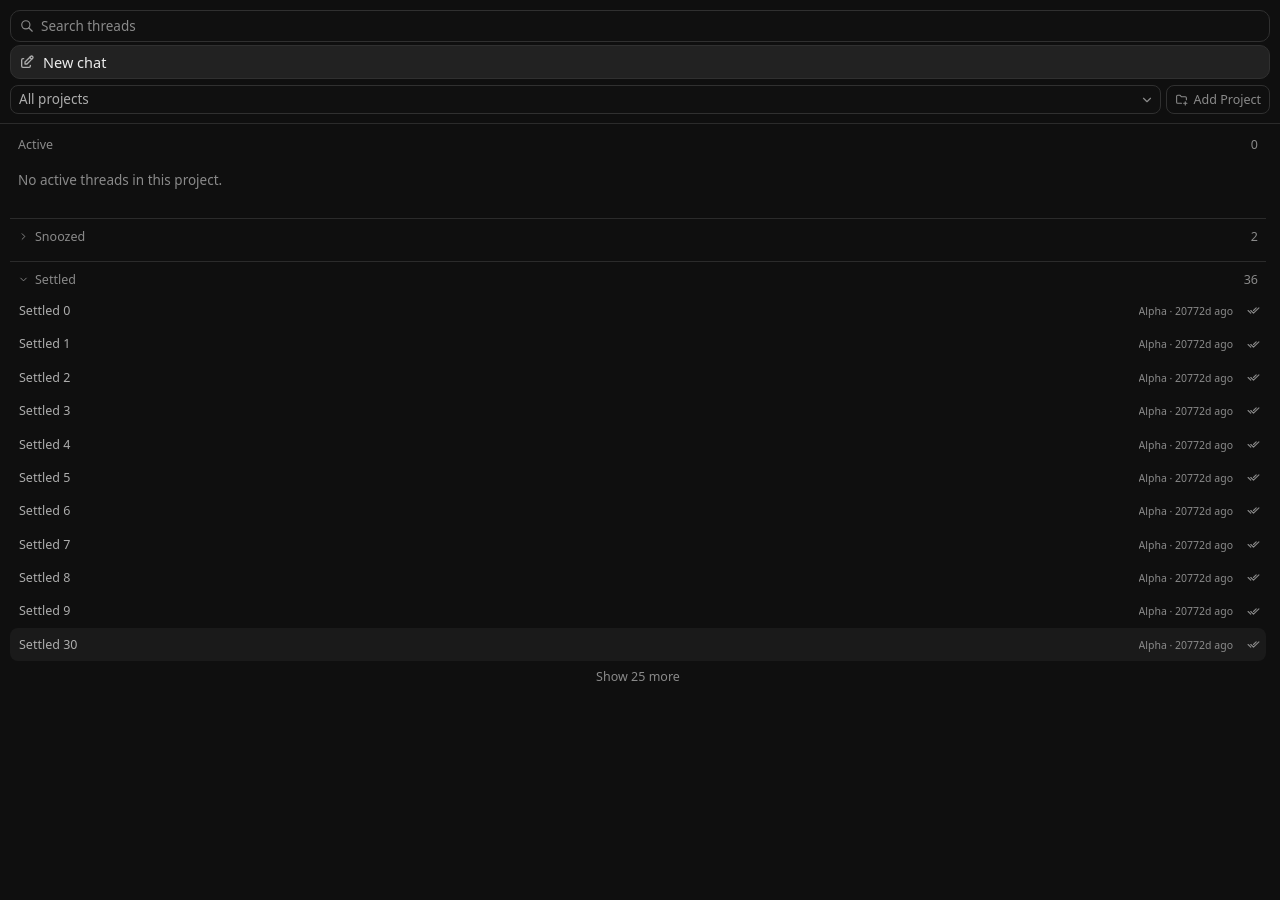
InboxSidebar › orders snoozes, pages settled work, and keeps a deep selected row visible
Later steps or results of the test are not shown.
Click the button "Snoozed 2" at (60, 237), box [10,222,1266,252]
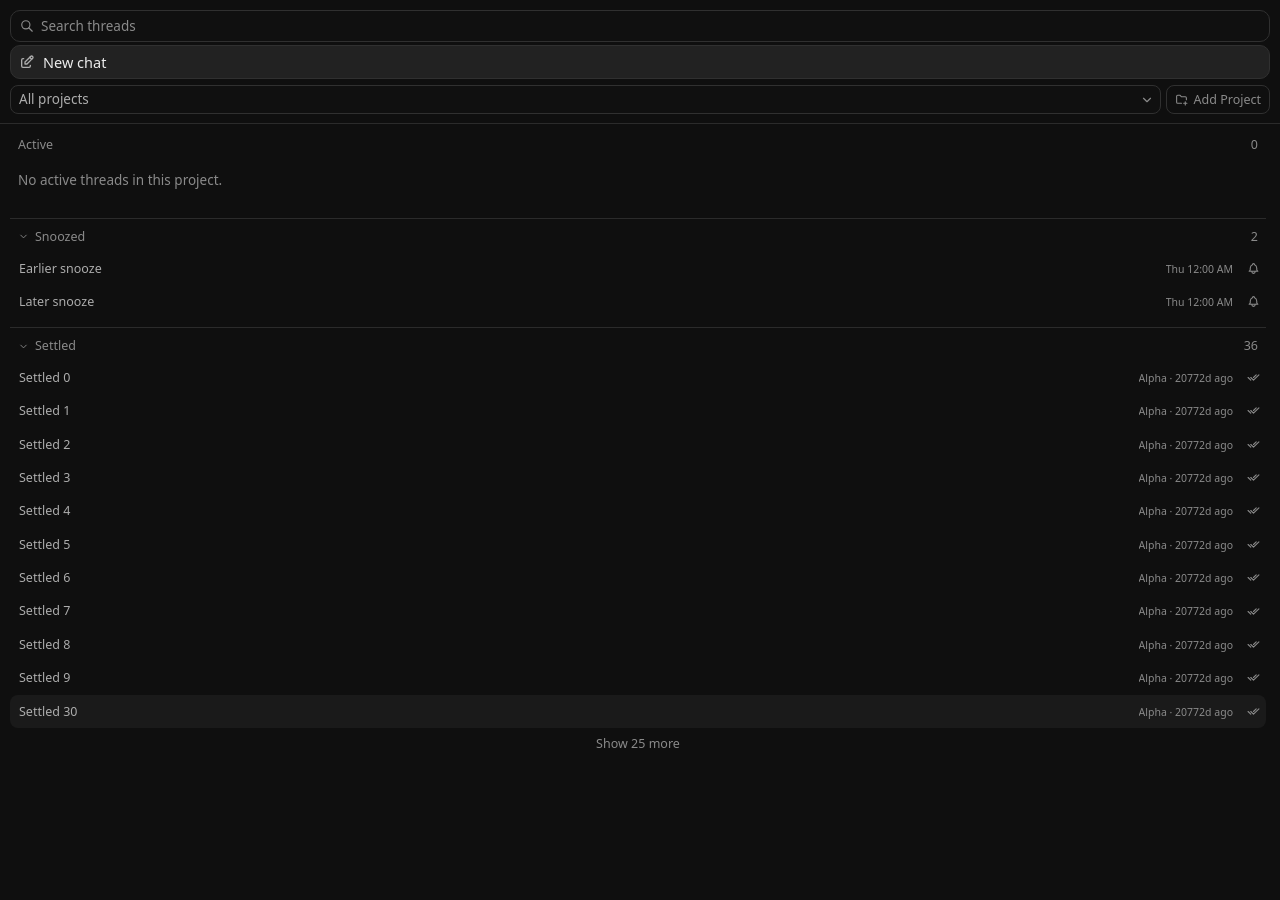
Expected: the text "Settled 30" is shown, [19,702,78,720]
Expected: the number of list items with class "inbox-shelf__row" is 13
